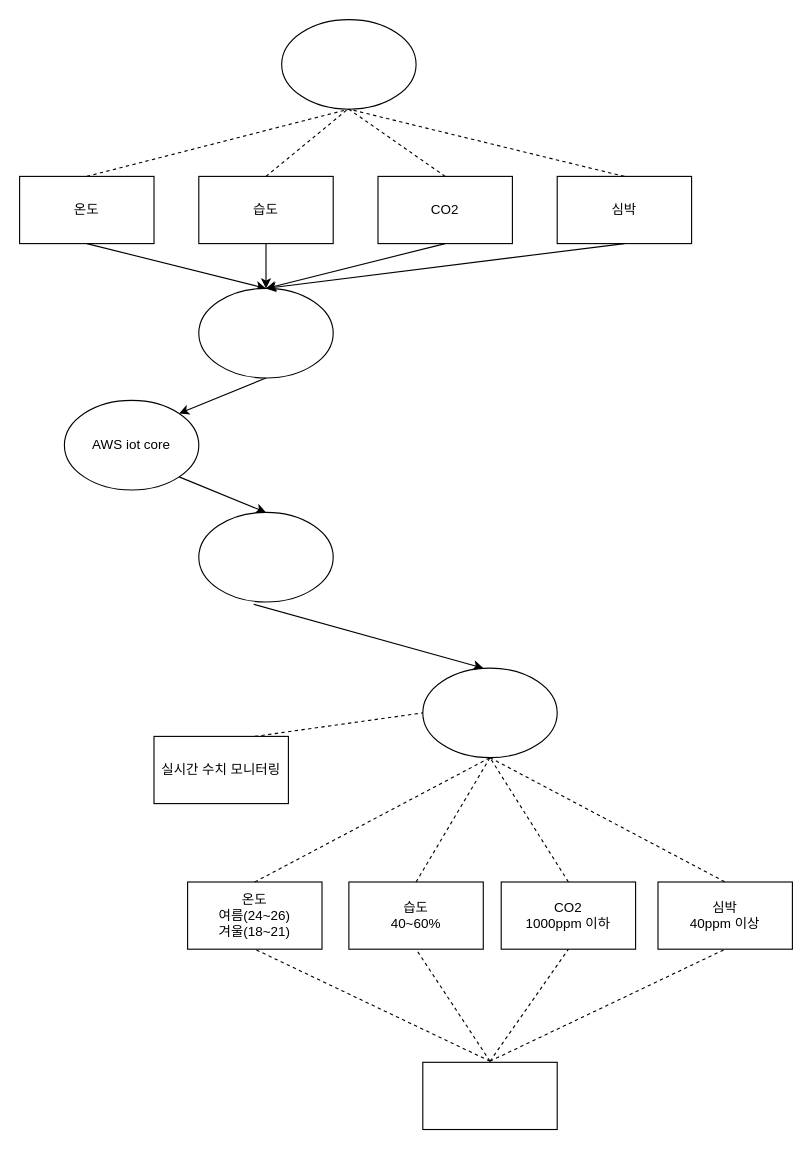
The diagram is 812 pixels wide and 1149 high, and some of its shapes have lost their labels. Here are the shapes that lost their labels. From the top down, the centre of each, then its label:
At point 348,63: "센서 데이터 (아두이노 프로미니)".
At point 265,332: "라즈베리파이 (사용자 회원 수 만큼아두이노 여러개 연결된다고 가정)".
At point 265,556: "DynamoDB".
At point 489,712: "Android".
At point 489,1095: "기준 수치에서 벗어나면 팝업 알림".
